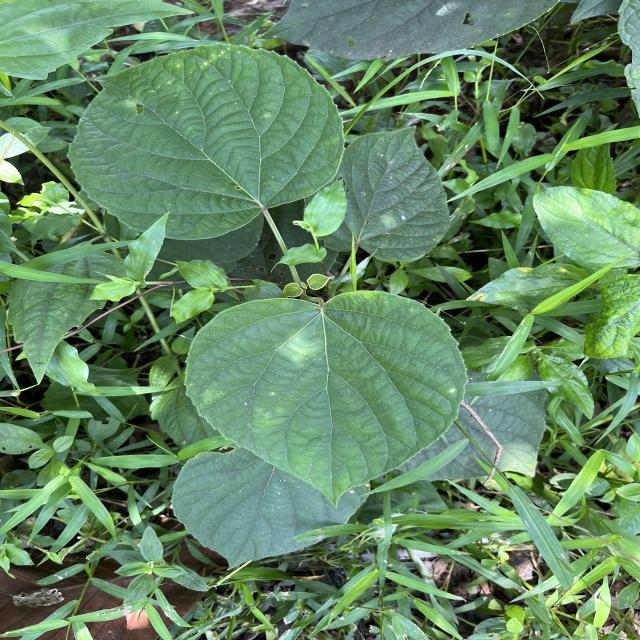Clerodendrum infortunatum: (184, 288, 472, 510), (65, 41, 347, 243), (171, 446, 372, 572), (308, 126, 452, 262)
